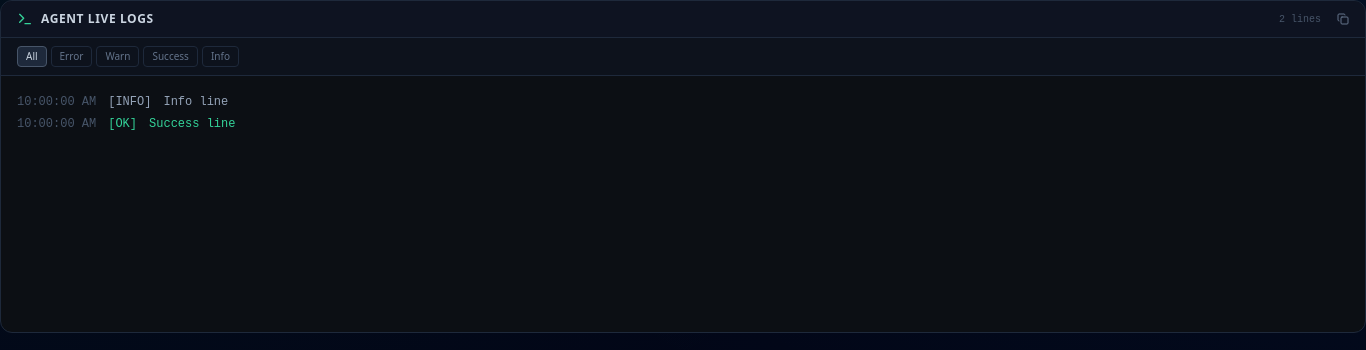
Test: AgentLogsPanel — level filter › filters to success logs when success pill clicked
Click the button "success": (171, 56) [143,46,198,67]
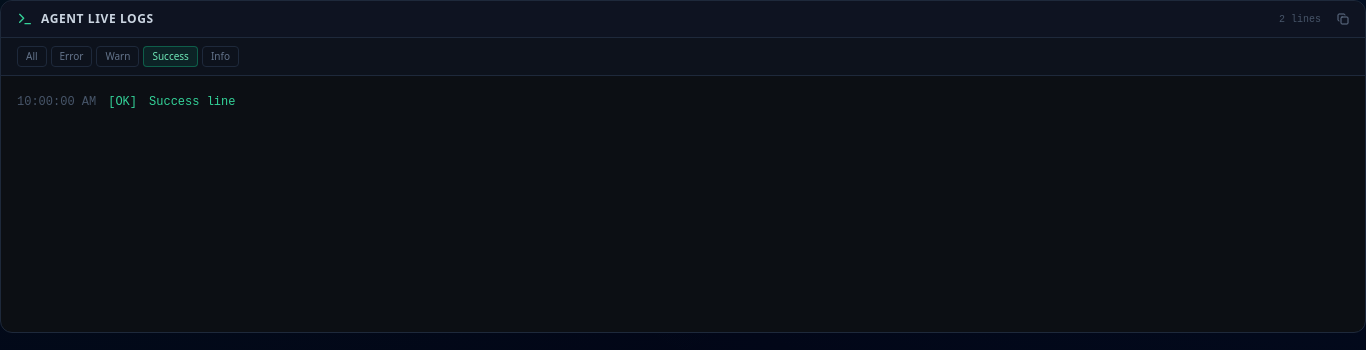
Expected: the text "Success line" is shown, [149,92,235,112]
Now the text "Info line" is gone
